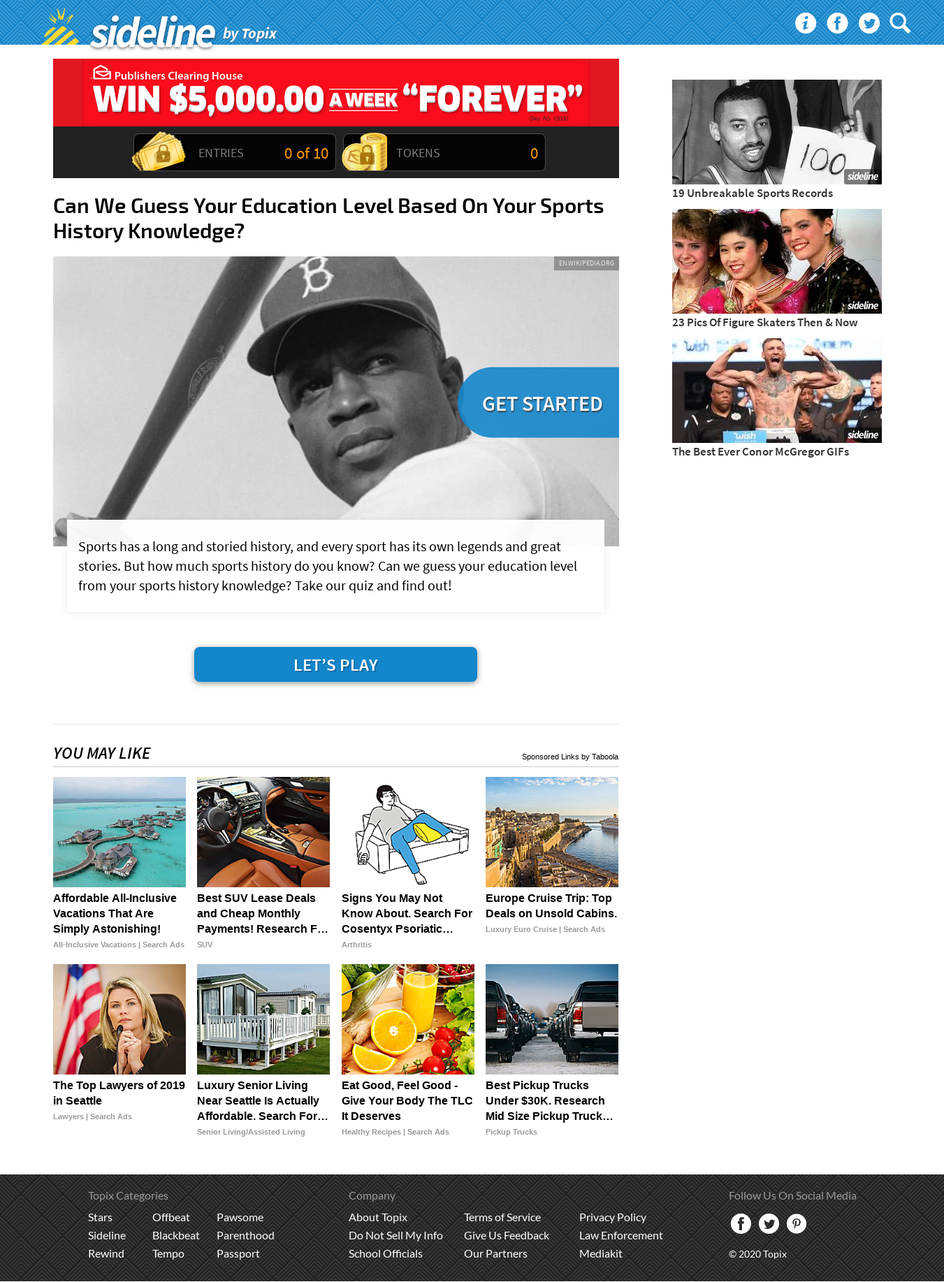fake_button: (183, 632, 494, 702), (449, 363, 625, 447)
